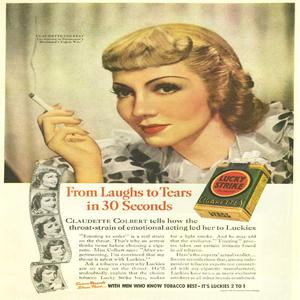cigarette: (28, 93, 57, 115)
